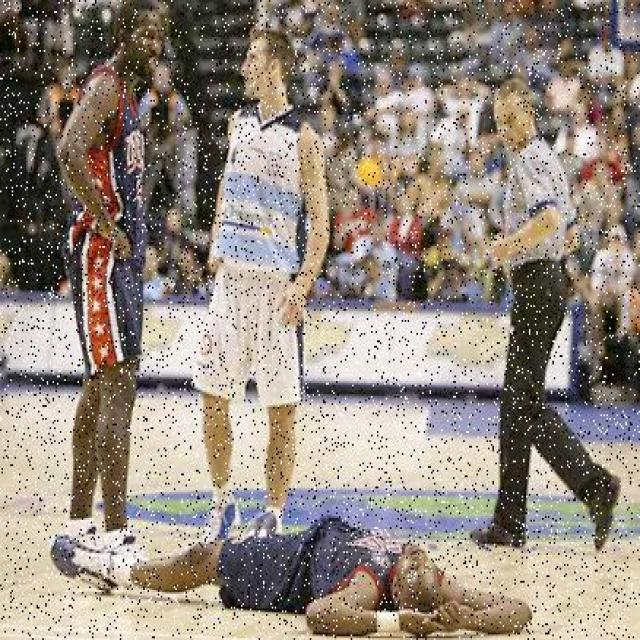fall: (62, 514, 530, 634)
